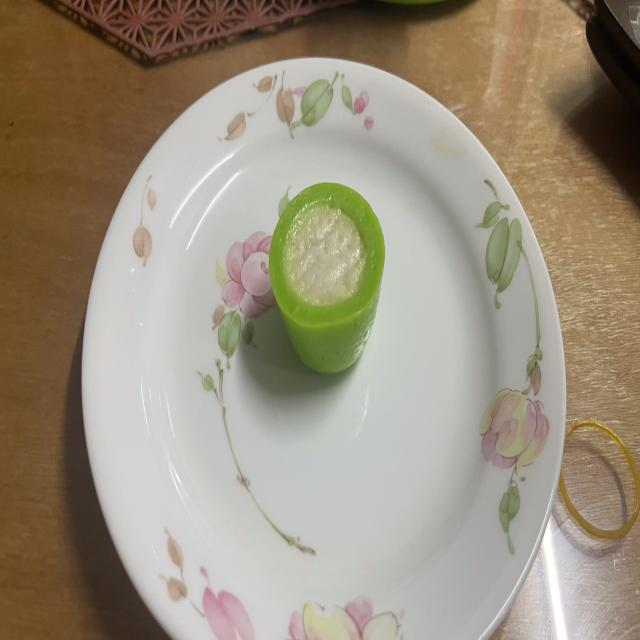nona-manis: (269, 182, 385, 373)
